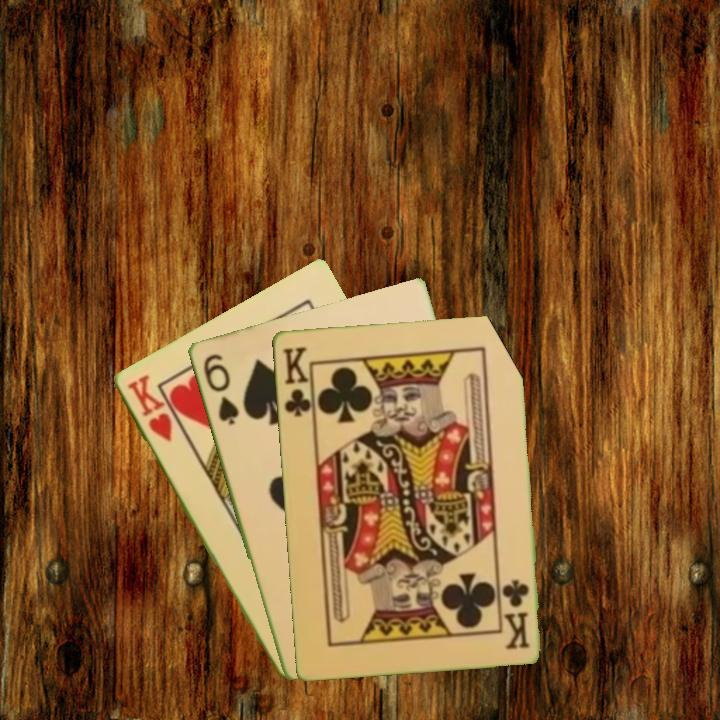6s: (199, 350, 242, 428)
Kc: (279, 342, 315, 422), (499, 575, 532, 652)
Kh: (123, 371, 175, 445)
